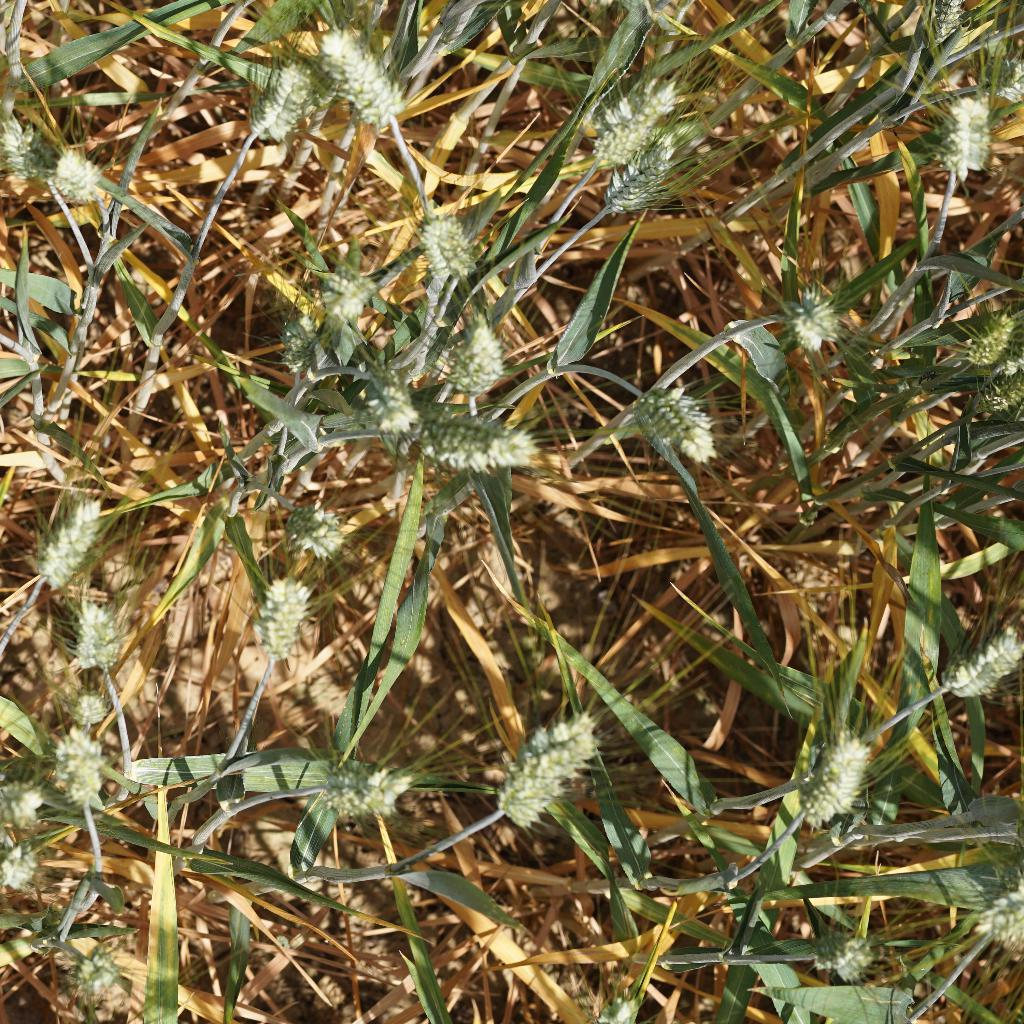0-0: (485, 713, 605, 833), (310, 11, 404, 130), (586, 74, 683, 175), (27, 478, 108, 597), (795, 722, 874, 837), (403, 411, 538, 475), (235, 44, 317, 146), (316, 746, 414, 826), (944, 616, 1020, 718), (595, 141, 694, 216), (635, 372, 718, 458), (933, 74, 997, 185), (236, 567, 310, 662), (70, 591, 145, 681), (354, 359, 423, 444), (52, 733, 118, 821), (279, 493, 365, 559), (448, 310, 507, 403), (402, 215, 486, 277), (899, 0, 974, 69), (960, 878, 1024, 958), (793, 916, 877, 975), (44, 138, 109, 212), (964, 363, 1024, 436), (783, 283, 847, 351), (312, 257, 378, 321), (952, 296, 1013, 365), (0, 770, 55, 839), (274, 309, 322, 383), (68, 942, 123, 1004), (0, 109, 36, 180), (0, 847, 53, 894), (62, 687, 111, 731)
